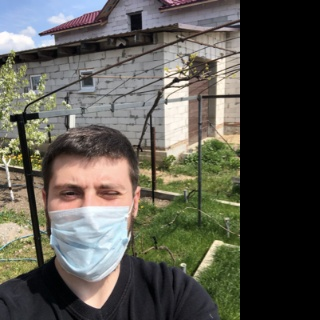with_mask: (45, 168, 134, 282)
